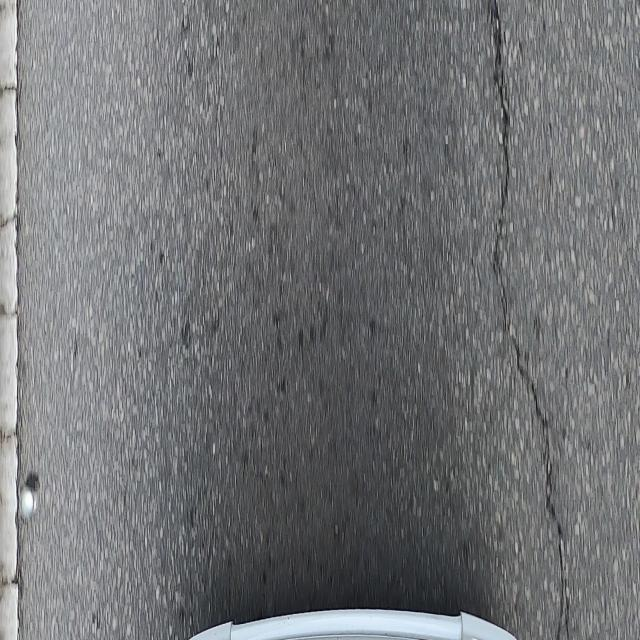Retak-Memanjang: (487, 0, 571, 636)
